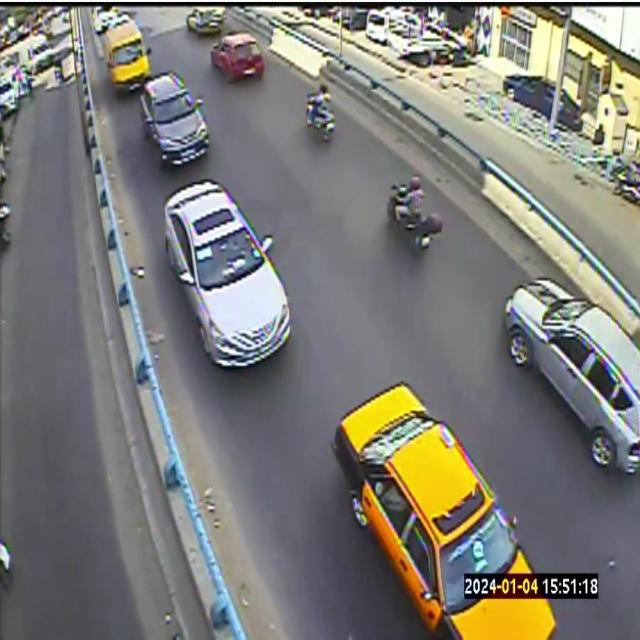car: (331, 382, 555, 639), (504, 278, 639, 473), (164, 181, 289, 366), (140, 72, 209, 165), (104, 20, 150, 91), (211, 33, 264, 81), (186, 6, 225, 34)
